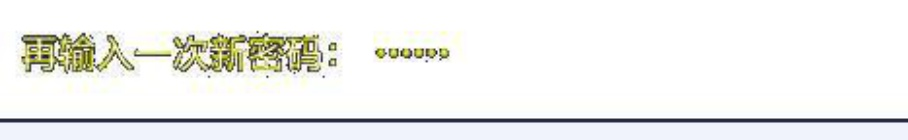EditText: (1, 1, 907, 139)
